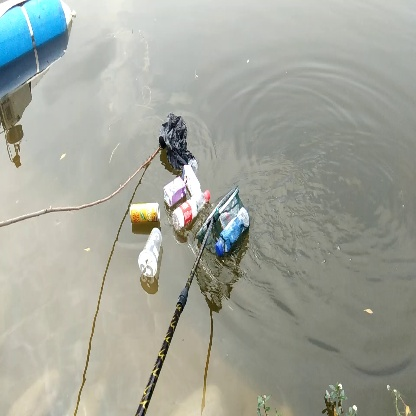bottle: (136, 228, 165, 276), (125, 197, 162, 223)
plastic-bag: (155, 108, 201, 176)
